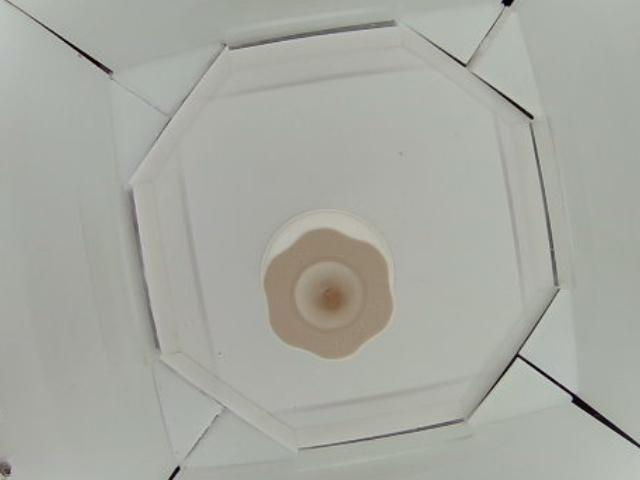Cup: (265, 211, 396, 365)
